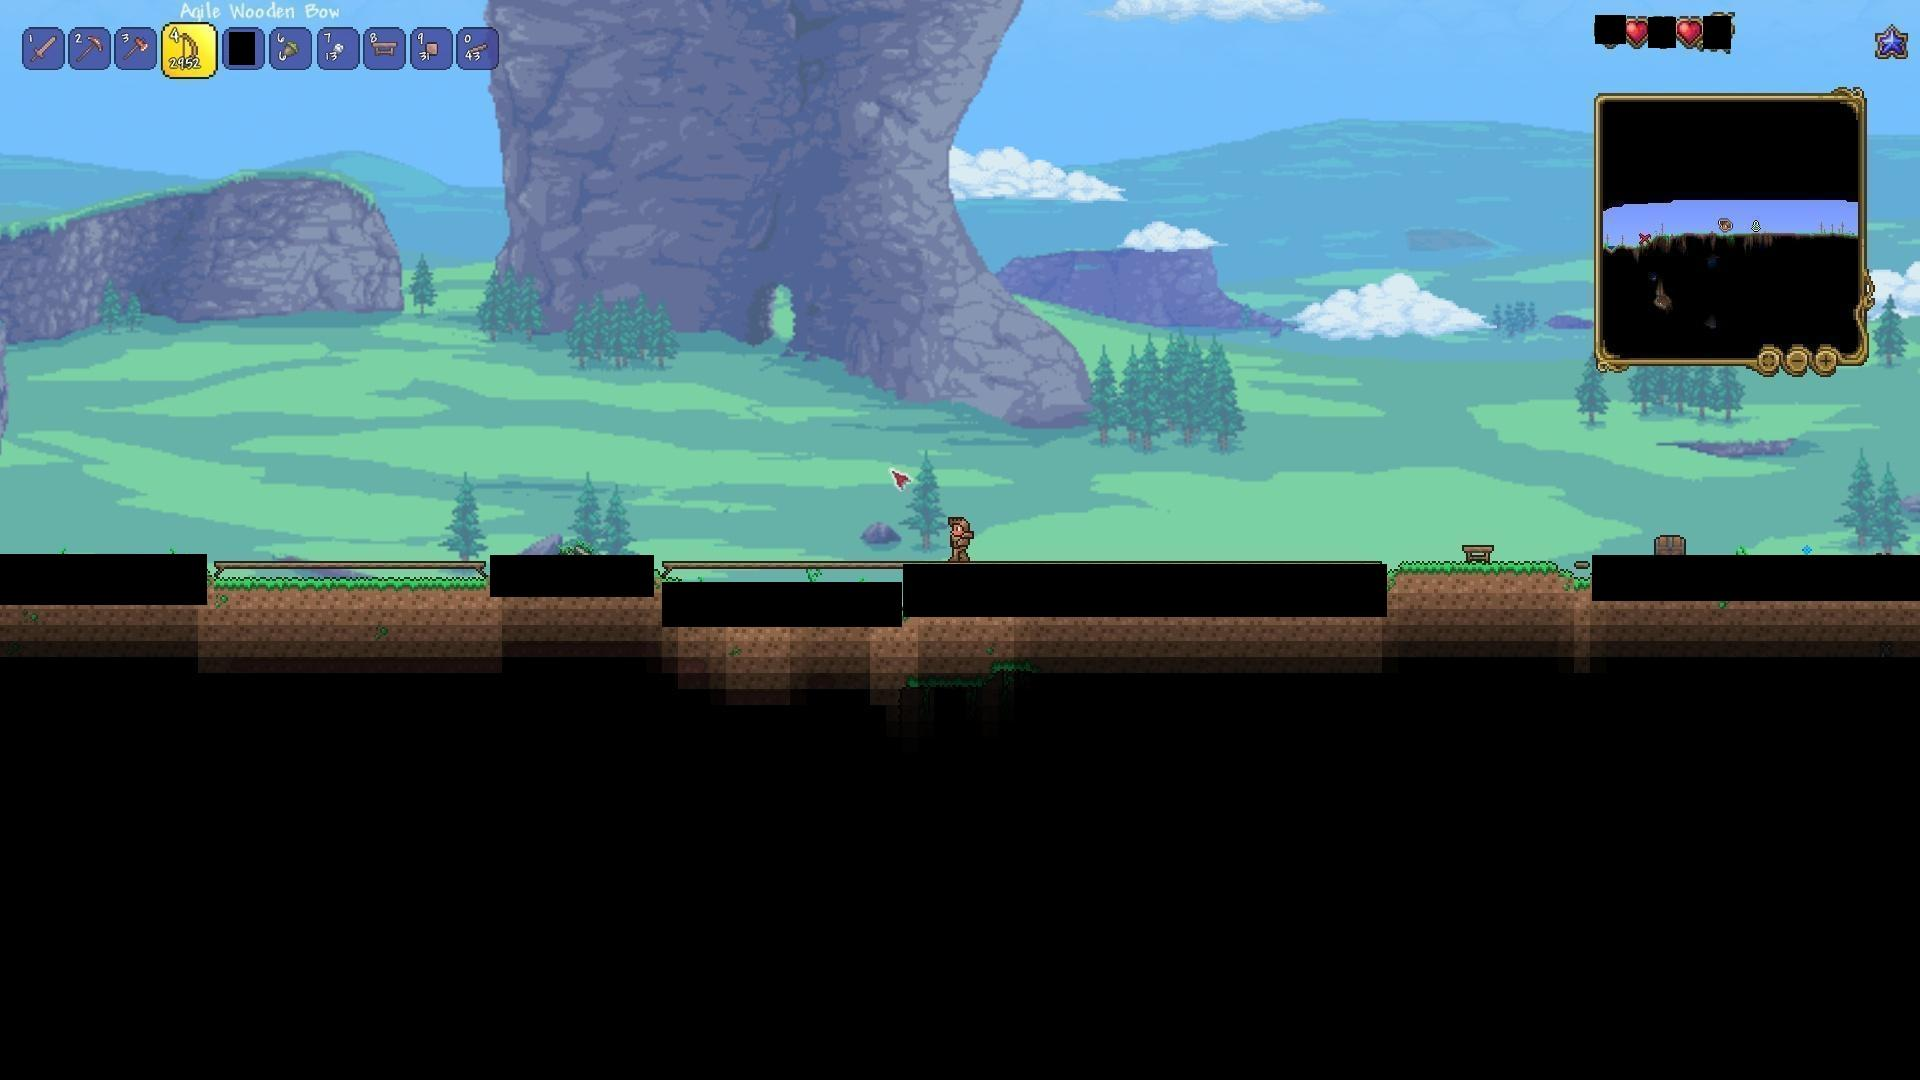dirt: (210, 562, 493, 618), (1389, 560, 1567, 600)
heart: (1675, 16, 1702, 47), (1625, 17, 1651, 46)
workbench: (1462, 541, 1499, 566), (367, 36, 404, 61)
